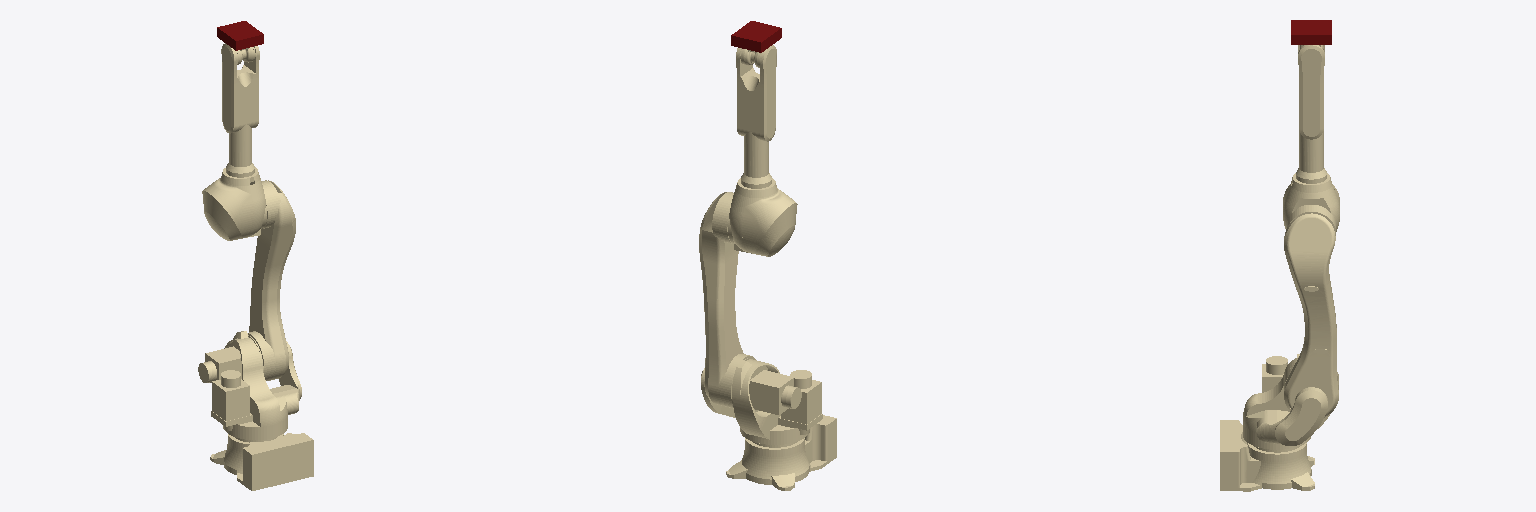
URDF robot description (rs020n):
<?xml version="1.0" encoding="utf-8"?>
<robot name="rs020n">
	<link name="ground">
		<inertial>
			<origin rpy="0.00000 0.00000 0.00000" xyz="0.00000 0.00000 0.00000"/>
			<mass value="0.00000"/>
			<inertia ixx="1000000." ixy="0" ixz="0" iyy="1000000." iyz="0" izz="1000000."/>
		</inertial>
		<visual>
			<origin rpy="1.57080 -0.00000 0.00000" xyz="0.00000 0.00000 0.00000"/>
			<geometry>
				<mesh filename="./meshes/RS020N-J0.obj" scale="1.00000 1.00000 1.00000"/>
			</geometry>
			<material name="mat_RS020N-J0">
				<color rgba="0.90000 0.85000 0.70000 1.00000" />
			</material>
		</visual>
		<collision>
			<origin rpy="1.57080 -0.00000 0.00000" xyz="0.00000 0.00000 0.00000"/>
			<geometry>
				<mesh filename="./meshes/RS020N-J0.obj" scale="1.00000 1.00000 1.00000"/>
			</geometry>
		</collision>
	</link>
	<link name="shoulder_pan">
		<inertial>
			<origin rpy="0.00000 0.00000 0.00000" xyz="0.00000 0.00000 0.10000"/>
			<mass value="105.819"/>
			<inertia ixx="2.4662" ixy="0" ixz="0" iyy="2.3289" iyz="0" izz="1.7986"/>
		</inertial>
		<visual>
			<origin rpy="-1.57080 -0.00000 1.57080" xyz="0.00000 0.00000 -0.25000"/>
			<geometry>
				<mesh filename="./meshes/RS020N-J1.obj" scale="1.00000 1.00000 1.00000"/>
			</geometry>
			<material name="mat_RS020N-J1">
				<color rgba="0.90000 0.85000 0.70000 1.00000" />
			</material>
		</visual>
		<collision>
			<origin rpy="-1.57080 -0.00000 1.57080" xyz="0.00000 0.00000 -0.25000"/>
			<geometry>
				<mesh filename="./meshes/RS020N-J1.obj" scale="1.00000 1.00000 1.00000"/>
			</geometry>
		</collision>
	</link>
	<link name="shoulder_lift">
		<inertial>
			<origin rpy="0.00000 0.00000 0.00000" xyz="0.11000 0.00000 0.45000"/>
			<mass value="34.056"/>
			<inertia ixx="0.18643" ixy="0" ixz="0" iyy="3.8671" iyz="0" izz="3.9003"/>
		</inertial>
		<visual>
			<origin rpy="0.00000 1.57080 4.71239" xyz="0.00000 0.00000 0.06000"/>
			<geometry>
				<mesh filename="./meshes/RS020N-J2.obj" scale="1.00000 1.00000 1.00000"/>
			</geometry>
			<material name="mat_RS020N-J2">
				<color rgba="0.90000 0.85000 0.70000 1.00000" />
			</material>
		</visual>
		<collision>
			<origin rpy="0.00000 1.57080 4.71239" xyz="0.00000 0.00000 0.06000"/>
			<geometry>
				<mesh filename="./meshes/RS020N-J2.obj" scale="1.00000 1.00000 1.00000"/>
			</geometry>
		</collision>
	</link>
	<link name="forearm">
		<inertial>
			<origin rpy="0.00000 0.00000 0.00000" xyz="0.00000 0.00000 0.25000"/>
			<mass value="24.361"/>
			<inertia ixx="0.27260" ixy="0" ixz="0" iyy="0.33739" iyz="0" izz="0.24438"/>
		</inertial>
		<visual>
			<origin rpy="0.00000 -1.57080 4.71239" xyz="0.00000 0.00000 0.00000"/>
			<geometry>
				<mesh filename="./meshes/RS020N-J3.obj" scale="1.00000 1.00000 1.00000"/>
			</geometry>
			<material name="mat_RS020N-J3">
				<color rgba="0.90000 0.85000 0.70000 1.00000" />
			</material>
		</visual>
		<collision>
			<origin rpy="0.00000 -1.57080 4.71239" xyz="0.00000 0.00000 0.00000"/>
			<geometry>
				<mesh filename="./meshes/RS020N-J3.obj" scale="1.00000 1.00000 1.00000"/>
			</geometry>
		</collision>
	</link>
	<link name="wrist_1_link">
		<inertial>
			<origin rpy="0.00000 0.00000 0.00000" xyz="-0.02000 0.00000 -0.34000"/>
			<mass value="17.376"/>
			<inertia ixx="0.99186" ixy="0" ixz="0" iyy="1.0047" iyz="0" izz="0.04649"/>
		</inertial>
		<visual>
			<origin rpy="1.57080 -0.00000 0.00000" xyz="0.00000 0.00000 0.00000"/>
			<geometry>
				<mesh filename="./meshes/RS020N-J4.obj" scale="1.00000 1.00000 1.00000"/>
			</geometry>
			<material name="mat_RS020N-J4">
				<color rgba="0.90000 0.85000 0.70000 1.00000" />
			</material>
		</visual>
		<collision>
			<origin rpy="1.57080 -0.00000 0.00000" xyz="0.00000 0.00000 0.00000"/>
			<geometry>
				<mesh filename="./meshes/RS020N-J4.obj" scale="1.00000 1.00000 1.00000"/>
			</geometry>
		</collision>
	</link>
	<link name="wrist_2_link">
		<inertial>
			<origin rpy="0.00000 0.00000 0.00000" xyz="0.00000 0.00000 0.00000"/>
			<mass value="2.699"/>
			<inertia ixx="0.0032" ixy="0" ixz="0" iyy="0.00567" iyz="0" izz="0.00588"/>
		</inertial>
		<visual>
			<origin rpy="0.00000 -1.57080 4.71239" xyz="0.00000 0.00000 0.00000"/>
			<geometry>
				<mesh filename="./meshes/RS020N-J5.obj" scale="1.00000 1.00000 1.00000"/>
			</geometry>
			<material name="mat_RS020N-J5">
				<color rgba="0.90000 0.85000 0.70000 1.00000" />
			</material>
		</visual>
		<collision>
			<origin rpy="0.00000 -1.57080 4.71239" xyz="0.00000 0.00000 0.00000"/>
			<geometry>
				<mesh filename="./meshes/RS020N-J5.obj" scale="1.00000 1.00000 1.00000"/>
			</geometry>
		</collision>
	</link>

	<link name="wrist_3_link">
		<inertial>
			<origin rpy="0.00000 0.00000 0.00000" xyz="0.00000 0.00000 -0.02665"/>
			<mass value="0.20000"/>
			<inertia ixx="1.00000" ixy="0" ixz="0" iyy="1.00000" iyz="0" izz="1.00000"/>
		</inertial>
		<visual>
			<origin rpy="0.00000 -0.00000 0.00000" xyz="0.00000 -0.15000 0.00000"/>
			<geometry>
				<mesh filename="./meshes/RS020N-J6.obj" scale="1.00000 1.00000 1.00000"/>
			</geometry>
			<material name="mat_RS020N-J6">
				<color rgba="0.90000 0.85000 0.70000 1.00000" />
			</material>
		</visual>
		<visual>
			<origin rpy="1.57080 -0.00000 0.00000" xyz="0.00000 -0.15 0.00000"/>
			<geometry>
				<!-- <mesh filename="./meshes/1006041_A_2.stl" scale="1.00000 1.00000 1.00000"/> -->
				<box size="0.175 0.15 0.05" scale="1.00000 1.00000 1.00000"/>
			</geometry>
			<material name="mat_gripper_short_off_white">
				<color rgba="0.50000 0.10000 0.10000 0.50000" />
			</material>
		</visual>
		<collision>
			<origin rpy="0.00000 -0.00000 0.00000" xyz="0.00000 -0.15000 0.00000"/>
			<geometry>
				<mesh filename="./meshes/RS020N-J6.obj" scale="1.00000 1.00000 1.00000"/>
			</geometry>
		</collision>
		<collision>
			<origin rpy="1.57080 -0.00000 0.00000" xyz="0.036 -0.125 0.00000"/>
			<geometry>
				<box size="0.175 0.15 0.05" scale="1.00000 1.00000 1.00000"/>
			</geometry>
		</collision>
        <!-- <visual>
			<origin rpy="1.57080 -0.00000 0.00000" xyz="0.036 -0.125 0.00000"/>
			<geometry>
				<box size="0.175 0.15 0.05" scale="1.00000 1.00000 1.00000"/>
			</geometry>
            <color rgba="0.50000 0.10000 0.10000 0.50000" />
		</visual> -->
        <!-- <visual>
			<origin rpy="1.57080 -0.00000 0.00000" xyz="0.00000 -0.09 0.00000"/>
			<geometry>
				<cylinder radius="0.075" length="0.02"/> 
			</geometry>
            <material name="mat_gripper_short_off_white">
				<color rgba="0.0000 0.80000 0.80000 1.00000" />
			</material>
		</visual> -->
        <collision>
			<origin rpy="1.57080 0.00000 0.00000" xyz="0.00000 -0.09 0.00000"/>
			<geometry>
				<cylinder radius="0.075" length="0.02"/> 
			</geometry>
		</collision>
	</link>

	<joint name="j1" type="revolute">
		<parent link="ground"/>
		<child link="shoulder_pan"/>
		<limit effort="1492.9" lower="-3.1400" upper="3.1400" velocity="3.3161"/>
		<dynamics damping="1.0" friction="0.0001"/>
		<origin rpy="3.14159 -0.00000 1.57080" xyz="0.00000 0.00000 0.19900"/>
		<axis xyz="0.00000 0.00000 1.00000"/>
	</joint>
	<transmission name="j1_trans" type = "pr2_mechanism_model/SimpleTransmission" >
		<actuator name = "j1_motor"/>
		<joint name = "j1"/>
		<mechanicalReduction>"1.0 "</mechanicalReduction>
	</transmission>
	<joint name="j2" type="revolute">
		<parent link="shoulder_pan"/>
		<child link="shoulder_lift"/>
		<limit effort="1225" lower="-1.8326" upper="2.7053" velocity="3.5779"/>
		<dynamics damping="1.0" friction="0.0001"/>
		<origin rpy="0.00000 1.57080 4.71239" xyz="0.15000 0.06000 -0.26600"/>
		<axis xyz="0.00000 0.00000 1.00000"/>
	</joint>
	<transmission name="j2_trans" type = "pr2_mechanism_model/SimpleTransmission" >
		<actuator name = "j2_motor"/>
		<joint name = "j2"/>
		<mechanicalReduction>"1.0 "</mechanicalReduction>
	</transmission>
	<joint name="j3" type="revolute">
		<parent link="shoulder_lift"/>
		<child link="forearm"/>
		<limit effort="363.05" lower="-2.8449" upper="2.618" velocity="3.6652"/>
		<dynamics damping="1.0" friction="0.0001"/>
		<origin rpy="3.14159 -0.00000 0.00000" xyz="0.77000 0.00000 0.05490"/>
		<axis xyz="0.00000 0.00000 1.00000"/>
	</joint>
	<transmission name="j3_trans" type = "pr2_mechanism_model/SimpleTransmission" >
		<actuator name = "j3_motor"/>
		<joint name = "j3"/>
		<mechanicalReduction>"1.0 "</mechanicalReduction>
	</transmission>
	<joint name="j4" type="revolute">
		<parent link="forearm"/>
		<child link="wrist_1_link"/>
		<limit effort="42.93000" lower="-4.7124" upper="4.7124" velocity="6.9813"/>
		<dynamics damping="1.0" friction="0.0001"/>
		<origin rpy="0.00000 1.57080 -0.00000" xyz="0.80500 0.00000 0.00000"/>
		<axis xyz="0.00000 0.00000 1.00000"/>
	</joint>
	<transmission name="j4_trans" type = "pr2_mechanism_model/SimpleTransmission" >
		<actuator name = "j4_motor"/>
		<joint name = "j4"/>
		<mechanicalReduction>"1.0 "</mechanicalReduction>
	</transmission>
	<joint name="j5" type="revolute">
		<parent link="wrist_1_link"/>
		<child link="wrist_2_link"/>
		<limit effort="52.00000" lower="-2.5307" upper="2.5307" velocity="6.2832"/>
		<dynamics damping="1.0" friction="0.0001"/>
		<origin rpy="0.00000 -1.57080 0.00000" xyz="0.00000 0.00000 0.00000"/>
		<axis xyz="0.00000 0.00000 1.00000"/>
	</joint>
	<transmission name="j5_trans" type = "pr2_mechanism_model/SimpleTransmission" >
		<actuator name = "j5_motor"/>
		<joint name = "j5"/>
		<mechanicalReduction>"1.0 "</mechanicalReduction>
	</transmission>
	<joint name="j6" type="revolute">
		<parent link="wrist_2_link"/>
		<child link="wrist_3_link"/>
		<limit effort="33.00000" lower="-6.28000" upper="6.28000" velocity="10.647"/>
		<dynamics damping="1.0" friction="0.0001"/>
		<origin rpy="3.14159 -0.00000 1.57080" xyz="0.23800 0.00000 0.00000"/>
		<axis xyz="0.00000 1.00000 0.00000"/>
	</joint>
	<transmission name="j6_trans" type = "pr2_mechanism_model/SimpleTransmission" >
		<actuator name = "j6_motor"/>
		<joint name = "j6"/>
		<mechanicalReduction>"1.0 "</mechanicalReduction>
	</transmission>
</robot>

--- Render facts (derived) ---
The picture shows the robot from 3 angles, left to right: view 1: azimuth 30°, elevation 25°; view 2: azimuth 150°, elevation 25°; view 3: azimuth 270°, elevation 25°; orthographic projection.
Model rs020n with 7 links and 6 joints (6 revolute), rooted at ground, posed every joint at zero.
Links seen in each view (by area): view 1: shoulder_pan, shoulder_lift, ground, wrist_1_link, forearm, wrist_3_link; view 2: shoulder_pan, shoulder_lift, wrist_1_link, ground, forearm, wrist_3_link; view 3: shoulder_lift, shoulder_pan, ground, wrist_1_link, forearm, wrist_3_link.
Link boxes in pixels (x1,y1,x2,y2): shoulder_pan: (198,331,301,439); shoulder_lift: (248,180,295,380); ground: (210,433,313,490); wrist_1_link: (221,43,259,177); forearm: (202,167,266,240); wrist_3_link: (217,21,263,50); shoulder_pan: (701,359,822,444); shoulder_lift: (699,192,755,408); wrist_1_link: (736,45,776,188); ground: (726,415,836,490); forearm: (728,178,797,256); wrist_3_link: (731,21,781,52); shoulder_lift: (1284,205,1338,417); shoulder_pan: (1243,354,1338,449); ground: (1220,420,1314,491); wrist_1_link: (1296,45,1326,183); forearm: (1283,173,1339,231); wrist_3_link: (1291,20,1331,44).
Bounding box of the posed robot: 0.4595 × 0.525 × 2.15 m (x, y, z).
7 mesh visuals loaded from 7 distinct referenced files (7 OBJ).